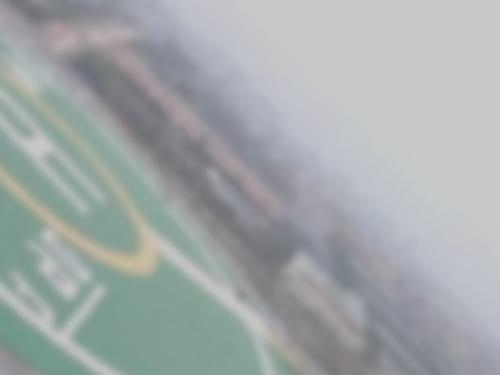Apron: (1, 55, 170, 286)
